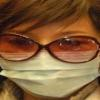mask: (0, 52, 100, 96)
